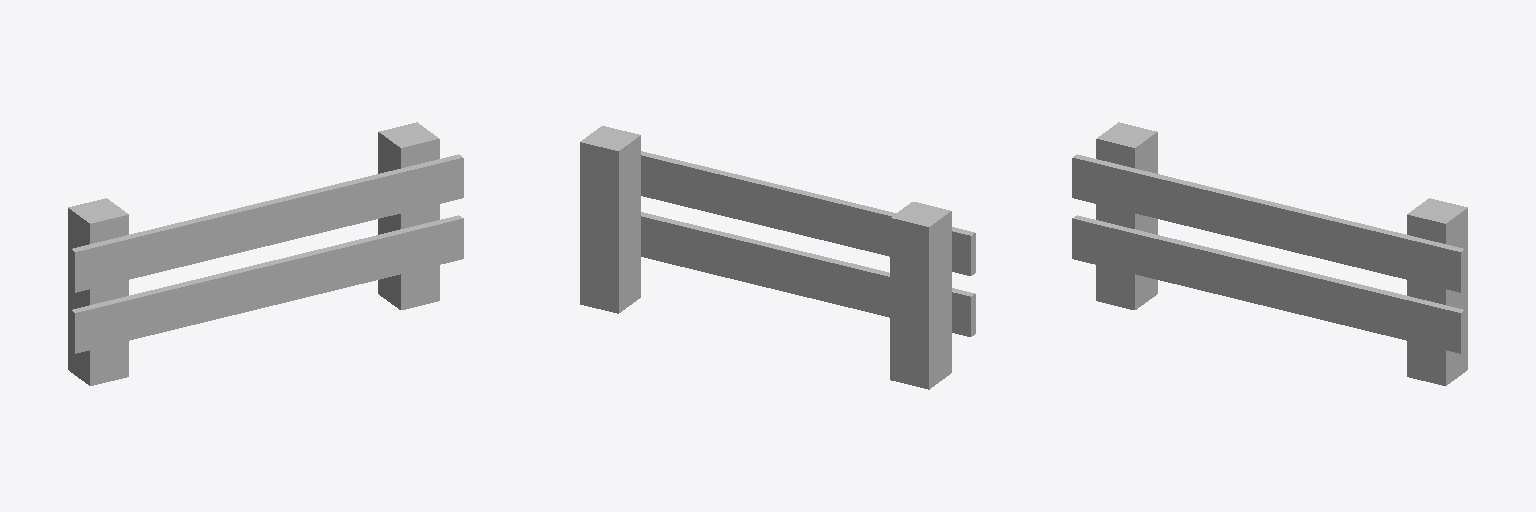
The model's file is fence.obj.
3 views of the same model, side by side, from view 1: azimuth 30°, elevation 25°; view 2: azimuth 150°, elevation 25°; view 3: azimuth 330°, elevation 25° (orthographic).
Parts seen in each view (by area): view 1: fence; view 2: fence; view 3: fence.
Part boxes in pixels (x1,y1,x2,y2): fence: (68,122,463,385); fence: (580,126,975,389); fence: (1072,122,1467,385).
Size of the model in its own units: 1 by 0.4 by 0.12.